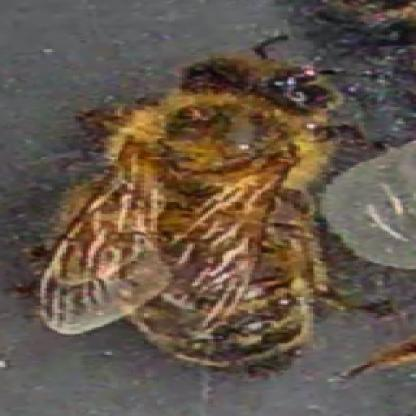bee: (95, 52, 336, 363)
